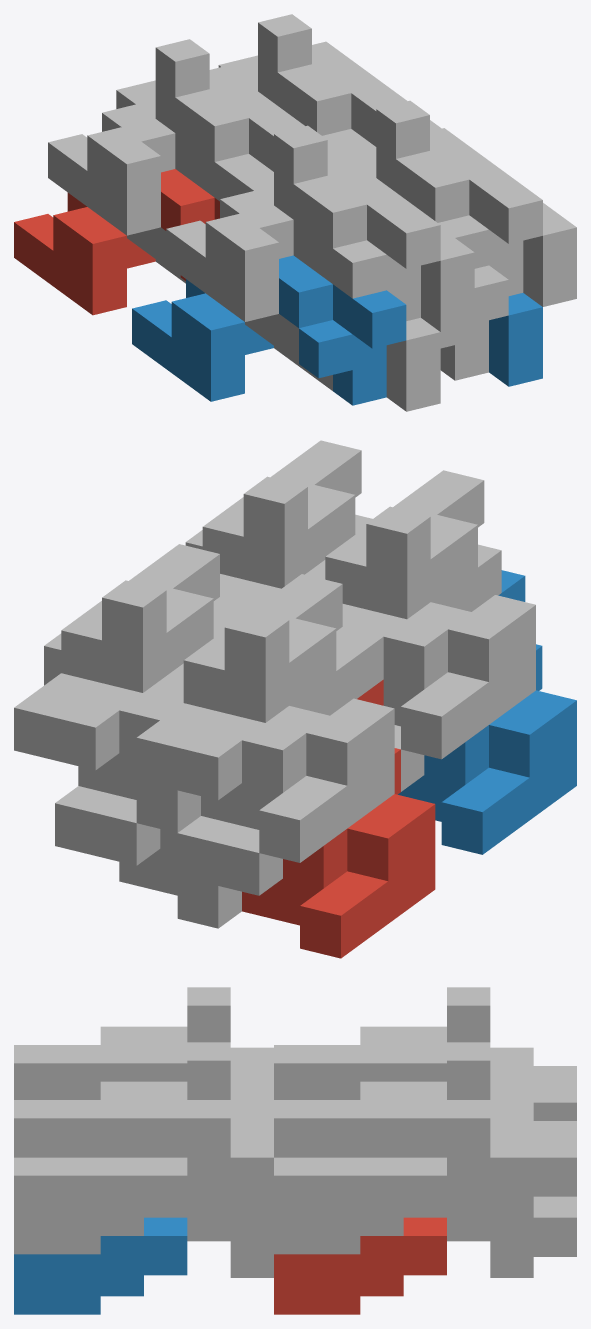
Rendered from tiling.obj.
The picture shows the model from 3 angles, top to bottom: view 1: azimuth 30°, elevation 25°; view 2: azimuth 150°, elevation 25°; view 3: azimuth 270°, elevation 25°; orthographic projection. The views are drawn at different scales.
Parts seen in each view (by area): view 1: copy_4_domain_4, copy_4_domain_8, copy_4_domain_2, copy_1_domain_3, copy_1_domain_4, copy_1_domain_1, copy_1_domain_2, copy_4_domain_3, copy_4_domain_7, copy_3_domain_3, copy_3_domain_4, copy_2_domain_2 (+10 smaller); view 2: copy_1_domain_3, copy_1_domain_4, copy_3_domain_3, copy_1_domain_1, copy_3_domain_7, copy_1_domain_2, copy_3_domain_4, copy_3_domain_8, copy_4_domain_4, copy_4_domain_3, copy_3_domain_1, copy_3_domain_5 (+10 smaller); view 3: copy_2_domain_8, copy_2_domain_7, copy_3_domain_7, copy_4_domain_8, copy_4_domain_7, copy_2_domain_6, copy_2_domain_5, copy_4_domain_4, copy_4_domain_3, copy_3_domain_8, copy_3_domain_5, copy_3_domain_3 (+8 smaller).
Boxes of the visible parts, <box> form: copy_4_domain_4: <box>293,167,440,320</box>; copy_4_domain_8: <box>396,142,542,295</box>; copy_4_domain_2: <box>279,255,406,405</box>; copy_1_domain_3: <box>48,104,160,235</box>; copy_1_domain_4: <box>166,191,278,321</box>; copy_1_domain_1: <box>14,192,155,315</box>; copy_1_domain_2: <box>132,279,273,401</box>; copy_4_domain_3: <box>175,81,304,201</box>; copy_4_domain_7: <box>277,56,407,151</box>; copy_3_domain_3: <box>116,39,243,182</box>; copy_3_domain_4: <box>234,125,361,269</box>; copy_2_domain_2: <box>279,314,440,411</box>; copy_1_domain_3: <box>201,698,394,862</box>; copy_1_domain_4: <box>383,595,535,759</box>; copy_3_domain_3: <box>136,610,312,800</box>; copy_1_domain_1: <box>242,794,435,958</box>; copy_3_domain_7: <box>14,580,166,770</box>; copy_1_domain_2: <box>398,690,576,854</box>; copy_3_domain_4: <box>325,506,454,696</box>; copy_3_domain_8: <box>202,476,307,622</box>; copy_4_domain_4: <box>349,470,501,606</box>; copy_4_domain_3: <box>208,574,359,710</box>; copy_3_domain_1: <box>177,706,329,895</box>; copy_3_domain_5: <box>55,676,183,865</box>; copy_2_domain_8: <box>14,1157,187,1254</box>; copy_2_domain_7: <box>274,1157,446,1254</box>; copy_3_domain_7: <box>447,1042,576,1196</box>; copy_4_domain_8: <box>14,1081,187,1157</box>; copy_4_domain_7: <box>274,1081,446,1157</box>; copy_2_domain_6: <box>14,1217,187,1314</box>; copy_2_domain_5: <box>274,1217,446,1314</box>; copy_4_domain_4: <box>14,1026,187,1099</box>; copy_4_domain_3: <box>274,1026,446,1099</box>; copy_3_domain_8: <box>187,1042,273,1196</box>; copy_3_domain_5: <box>447,1178,576,1256</box>; copy_3_domain_3: <box>447,987,576,1120</box>.
Size of the model in its own units: 9 by 6 by 13.
